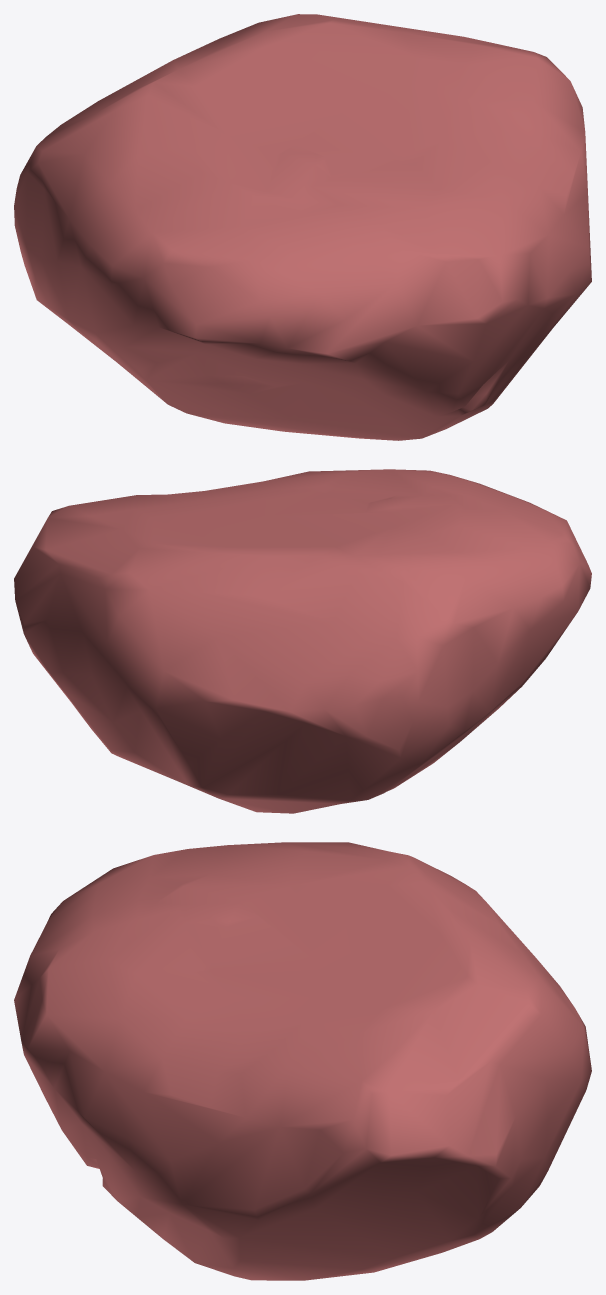
File: SM_Roche_Petit_03.fbx
The picture shows the model from 3 angles, top to bottom: view 1: azimuth 30°, elevation 25°; view 2: azimuth 150°, elevation 25°; view 3: azimuth 270°, elevation 25°; orthographic projection. The views are drawn at different scales.
Visible parts, largest first — view 1: Roche_Petit_03_LP; view 2: Roche_Petit_03_LP; view 3: Roche_Petit_03_LP.
Part boxes in pixels (x1=…): Roche_Petit_03_LP: x1=14, y1=14, x2=591, y2=440; Roche_Petit_03_LP: x1=14, y1=469, x2=591, y2=813; Roche_Petit_03_LP: x1=14, y1=842, x2=591, y2=1280.
Size of the model in its own units: 81.77 by 48.02 by 77.97.
